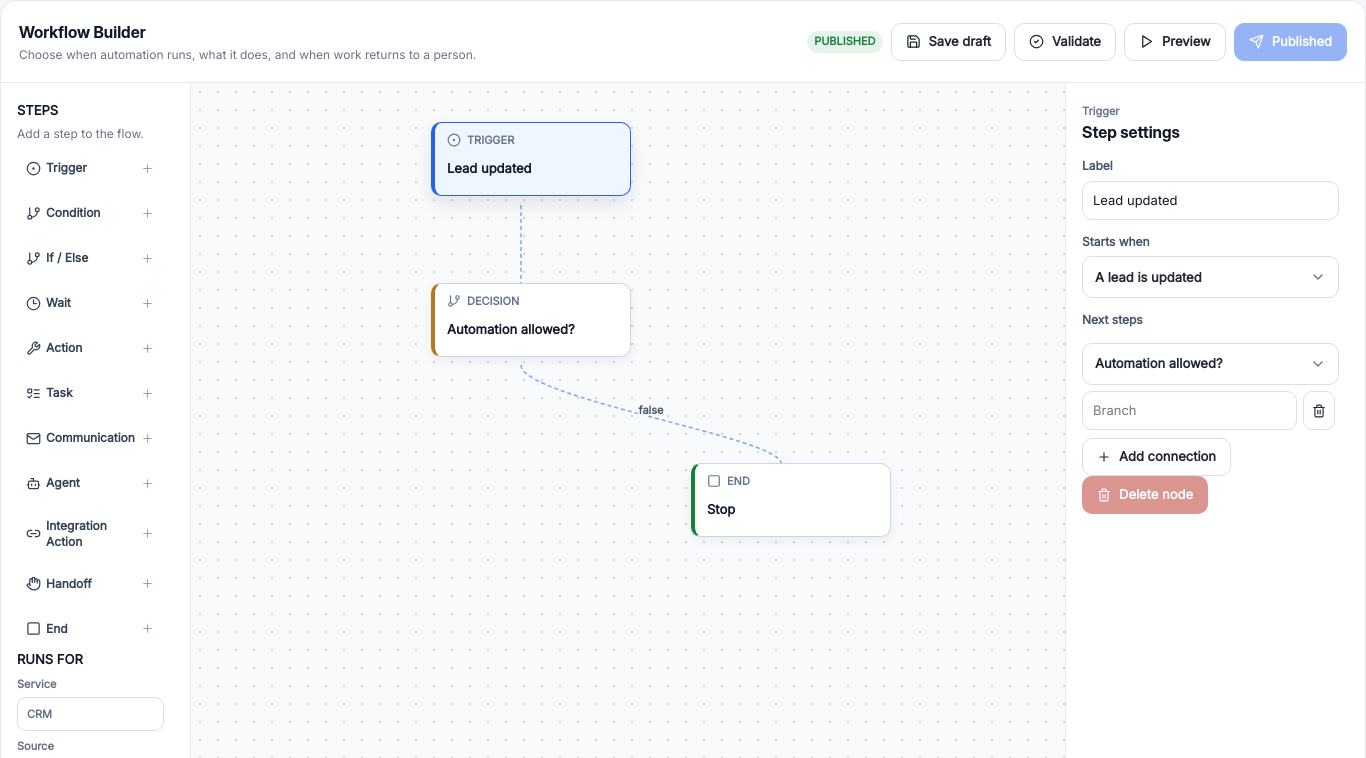
WorkflowBuilder › renders persisted nodes, branching, the complete palette and publishing controls
Expected: the text "Lead updated" is shown, [447,160,532,176]
Click the 1st text "Automation allowed?". click: (511, 329)
box: [447,321,574,337]
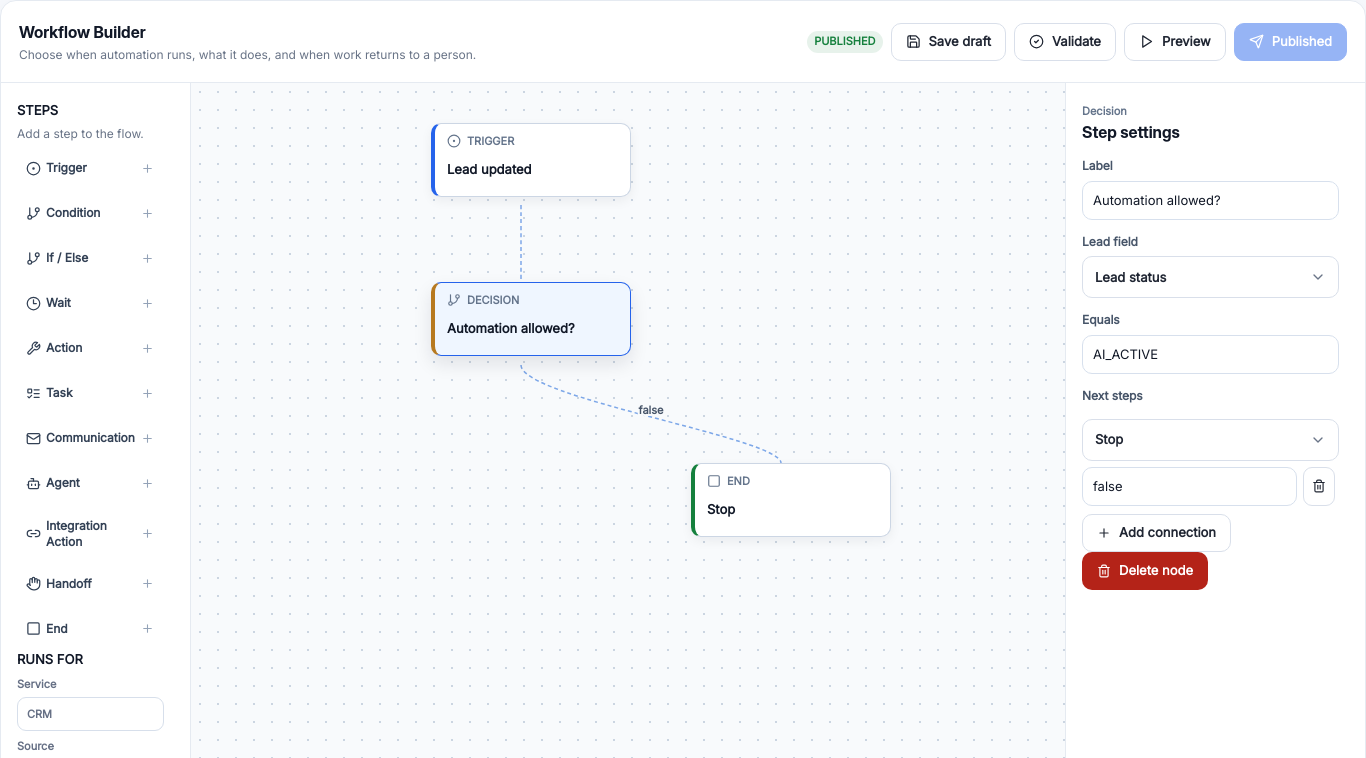
Expected: the heading "Step settings" is shown, [1082,122,1180,142]
Expected: the field showing "false" is shown, [1082,467,1297,506]
Click the button "Wait". click: (90, 304)
box: [17,284,164,322]
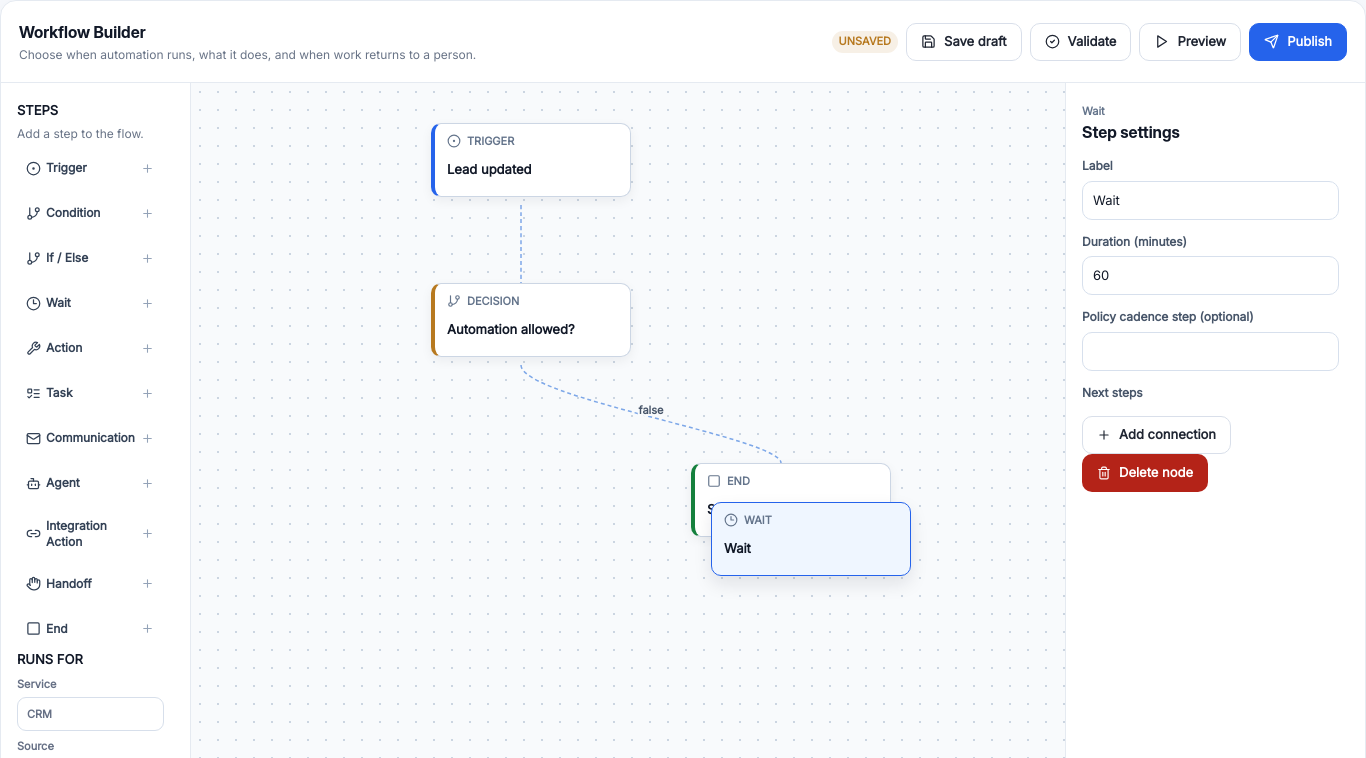
Expected: the button "Publish" is enabled, [1249,22,1347,60]
Expected: the text "UNSAVED" is shown, [832,30,898,52]
